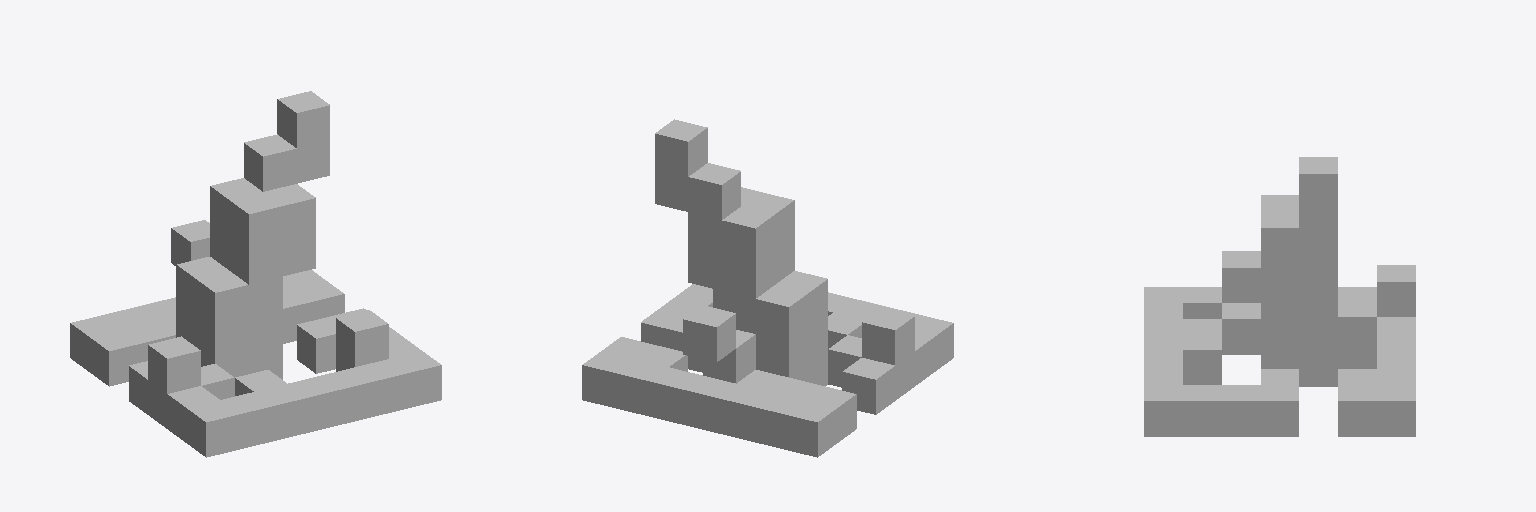
Rendered from environ-deck1-kraken-1.obj.
3 views of the same model, side by side, from view 1: azimuth 30°, elevation 25°; view 2: azimuth 150°, elevation 25°; view 3: azimuth 270°, elevation 25° (orthographic).
Parts seen in each view (by area): view 1: deck1-kraken-1; view 2: deck1-kraken-1; view 3: deck1-kraken-1.
Part boxes in pixels (x1,y1,x2,y2): deck1-kraken-1: (70, 91, 441, 457); deck1-kraken-1: (582, 119, 953, 457); deck1-kraken-1: (1144, 157, 1415, 436).
Bounding box in the file's own units: 0.7 × 0.7 × 0.7.